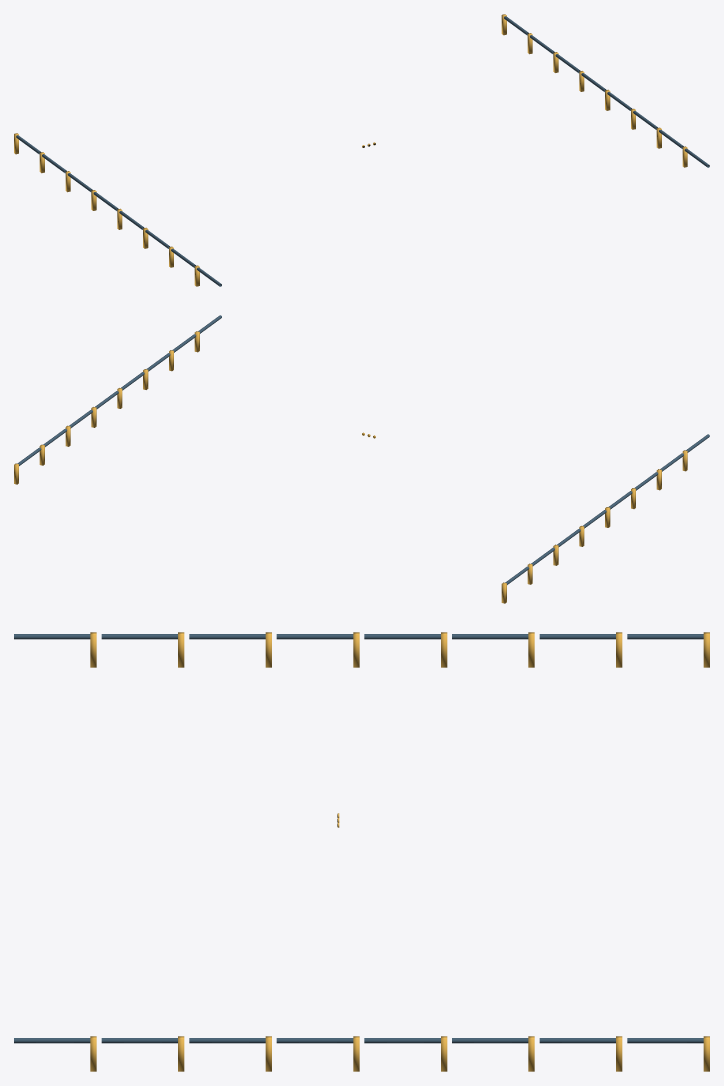
File: 05_L93_LabSafetyRailSet.fbx
3 views of the same model, one above another, from view 1: azimuth 30°, elevation 25°; view 2: azimuth 150°, elevation 25°; view 3: azimuth 270°, elevation 25° (orthographic). The views are drawn at different scales.
Visible parts, largest first — view 1: L92_LabSafetyRailSet_Part_0000, L92_LabSafetyRailSet_Part_0001; view 2: L92_LabSafetyRailSet_Part_0001, L92_LabSafetyRailSet_Part_0000; view 3: L92_LabSafetyRailSet_Part_0000, L92_LabSafetyRailSet_Part_0001.
Boxes of the visible parts, x1=… form: L92_LabSafetyRailSet_Part_0000: x1=16, y1=16, x2=709, y2=286; L92_LabSafetyRailSet_Part_0001: x1=14, y1=14, x2=687, y2=286; L92_LabSafetyRailSet_Part_0001: x1=14, y1=331, x2=687, y2=603; L92_LabSafetyRailSet_Part_0000: x1=17, y1=315, x2=709, y2=584; L92_LabSafetyRailSet_Part_0000: x1=14, y1=634, x2=703, y2=1043; L92_LabSafetyRailSet_Part_0001: x1=90, y1=632, x2=709, y2=1071.
Bounding box in the file's own units: 2416 × 138 × 1748.
